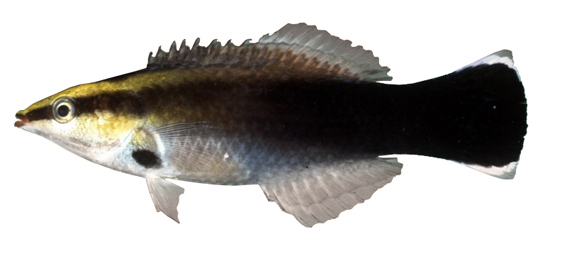fish: (13, 21, 527, 227)
